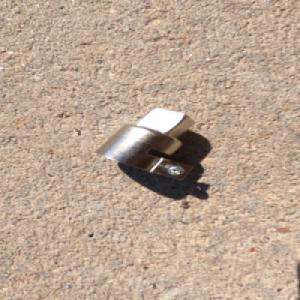MetalPart: (92, 106, 196, 181)
